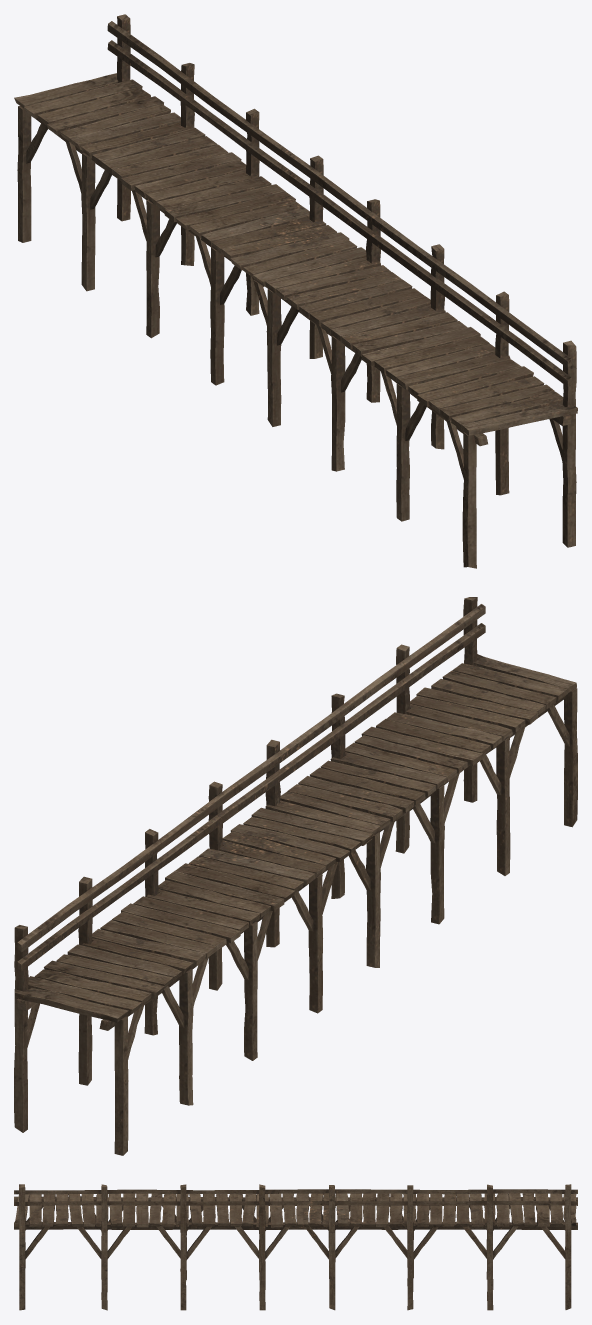
Rendered from 111 - Ponte.glb.
3 views of the same model, one above another, from view 1: azimuth 30°, elevation 25°; view 2: azimuth 150°, elevation 25°; view 3: azimuth 270°, elevation 25° (orthographic). The views are drawn at different scales.
Parts seen in each view (by area): view 1: Lowpoly, Lowpolystolpe; view 2: Lowpoly, Lowpolystolpe; view 3: Lowpoly, Lowpolystolpe.
Boxes of the visible parts, x1=… form: Lowpoly: x1=14, y1=14, x2=577, y2=479; Lowpolystolpe: x1=17, y1=106, x2=576, y2=568; Lowpoly: x1=14, y1=597, x2=576, y2=1059; Lowpolystolpe: x1=14, y1=688, x2=577, y2=1155; Lowpoly: x1=14, y1=1184, x2=577, y2=1259; Lowpolystolpe: x1=19, y1=1229, x2=571, y2=1310.
Size of the model in its own units: 263 by 459 by 1900.
1 material, 1 textured.
